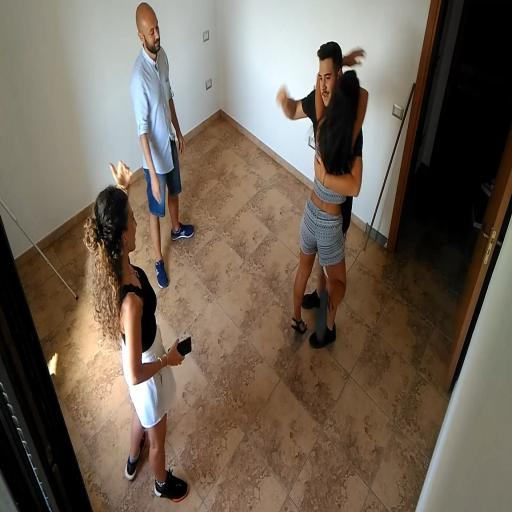nao-violencia: (264, 19, 376, 354)
